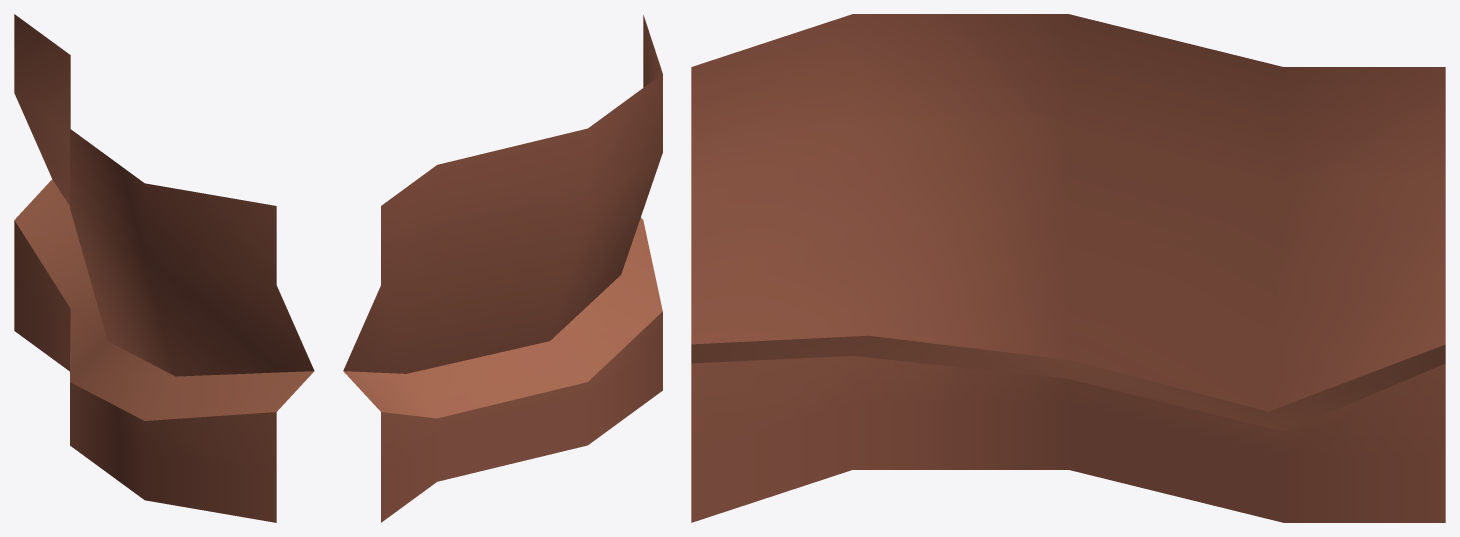
Rendered from Hill_Cliff_D_Side_Color2.fbx.
3 views of the same model, side by side, from view 1: azimuth 30°, elevation 25°; view 2: azimuth 150°, elevation 25°; view 3: azimuth 270°, elevation 25° (orthographic). The views are drawn at different scales.
Parts seen in each view (by area): view 1: Hill_Cliff_D_Side_Color2; view 2: Hill_Cliff_D_Side_Color2; view 3: Hill_Cliff_D_Side_Color2.
Part boxes in pixels (box(x1,y1,x2,y2)): Hill_Cliff_D_Side_Color2: box(14, 14, 314, 522); Hill_Cliff_D_Side_Color2: box(343, 15, 662, 522); Hill_Cliff_D_Side_Color2: box(691, 14, 1445, 522).
Size of the model in its own units: 0.75 by 2 by 3.
